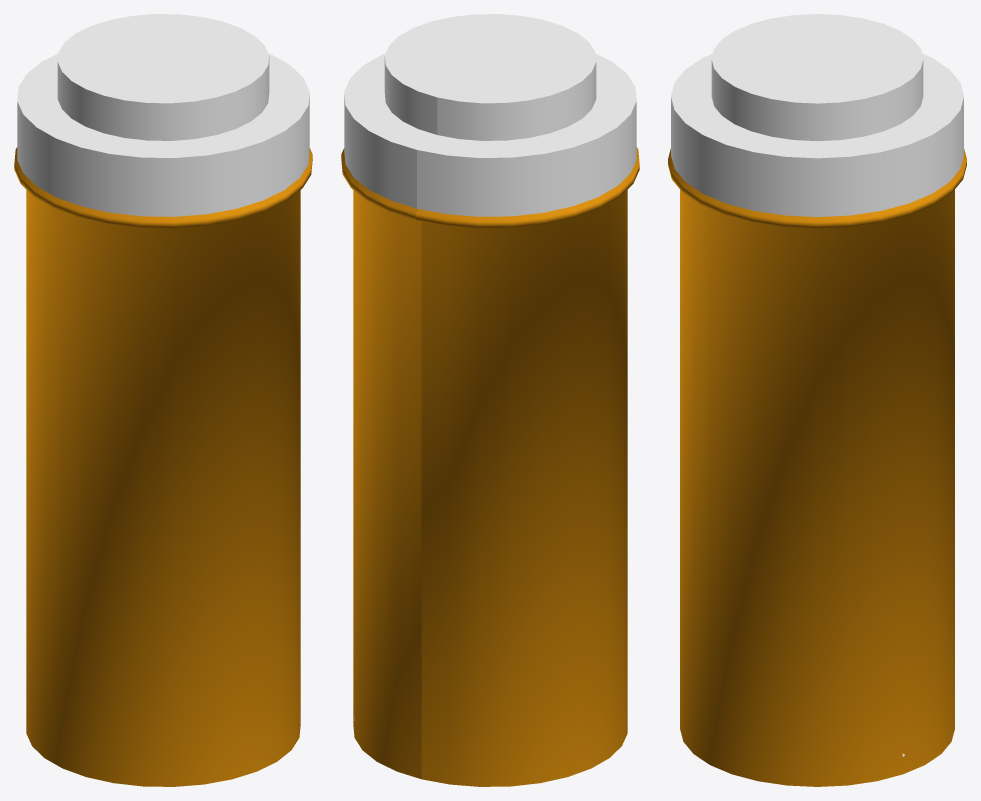
File: BOP.obj
3 views of the same model, side by side, from view 1: azimuth 30°, elevation 25°; view 2: azimuth 150°, elevation 25°; view 3: azimuth 270°, elevation 25° (orthographic).
Visible parts, largest first — view 1: Cylinder, Cylinder.002_Cylinder.004; view 2: Cylinder, Cylinder.002_Cylinder.004; view 3: Cylinder, Cylinder.002_Cylinder.004.
Boxes of the visible parts, <box> form: Cylinder: <box>14,147,312,786</box>; Cylinder.002_Cylinder.004: <box>17,14,309,216</box>; Cylinder: <box>341,147,639,786</box>; Cylinder.002_Cylinder.004: <box>344,14,636,216</box>; Cylinder: <box>668,148,966,786</box>; Cylinder.002_Cylinder.004: <box>671,14,963,216</box>.
Size of the model in its own units: 0.0486 by 0.1202 by 0.0486.
Materials: 1 (1 with a texture image).
